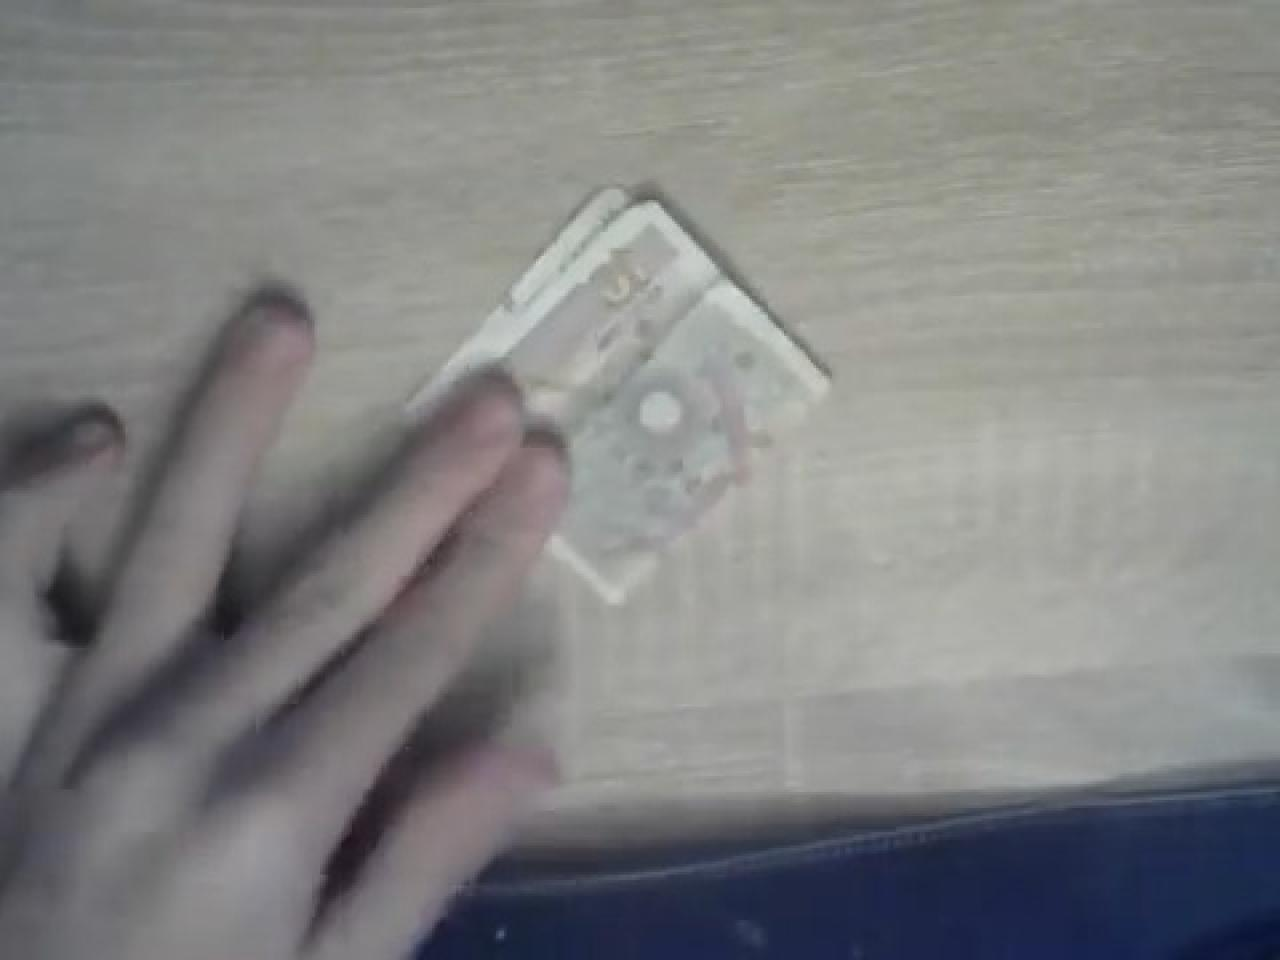10leva: (400, 187, 835, 610)
